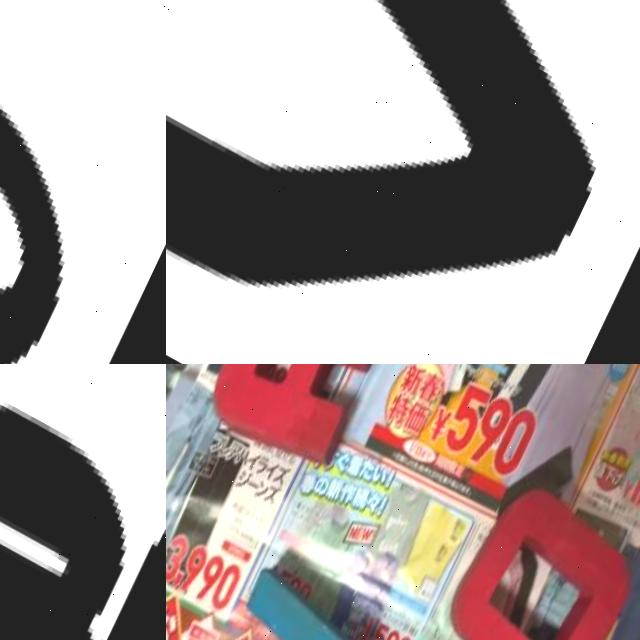A: (200, 364, 396, 467)
G: (0, 364, 166, 640)
O: (428, 451, 640, 640)
V: (166, 0, 640, 364), (192, 551, 390, 640)
